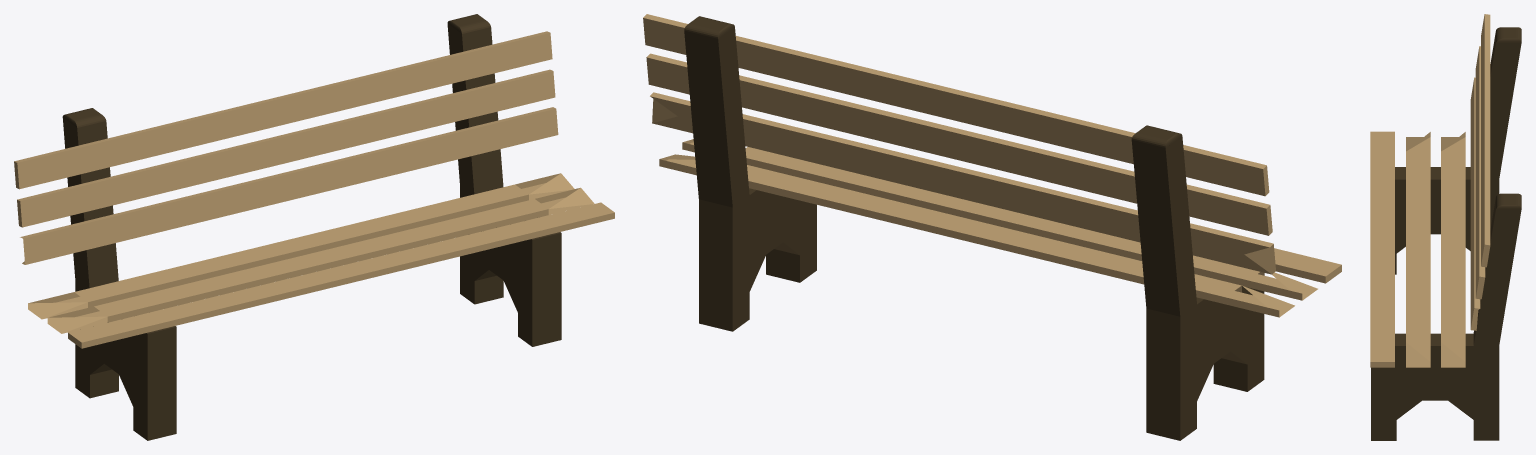
File: BENCH.fbx
3 renders of one model, left to right at view 1: azimuth 30°, elevation 25°; view 2: azimuth 150°, elevation 25°; view 3: azimuth 270°, elevation 25°, orthographic. The views are drawn at different scales.
Visible parts, largest first — view 1: Cube.023; view 2: Cube.023; view 3: Cube.023.
Boxes of the visible parts, <box> form: Cube.023: <box>14,14,614,440</box>; Cube.023: <box>643,14,1341,440</box>; Cube.023: <box>1370,14,1521,440</box>.
Bounding box in the file's own units: 135 × 64.07 × 37.31.
